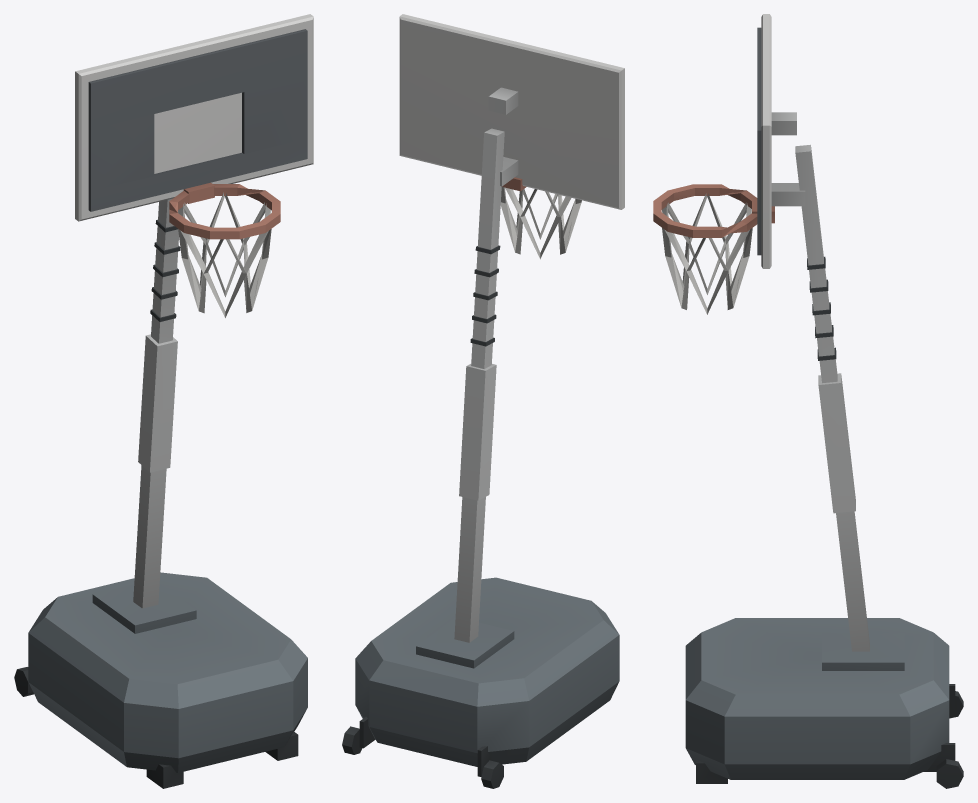
Rendered from hoop.glb.
3 renders of one model, left to right at view 1: azimuth 30°, elevation 25°; view 2: azimuth 150°, elevation 25°; view 3: azimuth 270°, elevation 25°, orthographic. The views are drawn at different scales.
Visible parts, largest first — view 1: hoop; view 2: hoop; view 3: hoop.
Part boxes in pixels (<box>): hoop: <box>14,14,313,788</box>; hoop: <box>342,14,624,788</box>; hoop: <box>653,14,963,788</box>.
Size of the model in its own units: 1.15 by 3.28 by 1.35.
